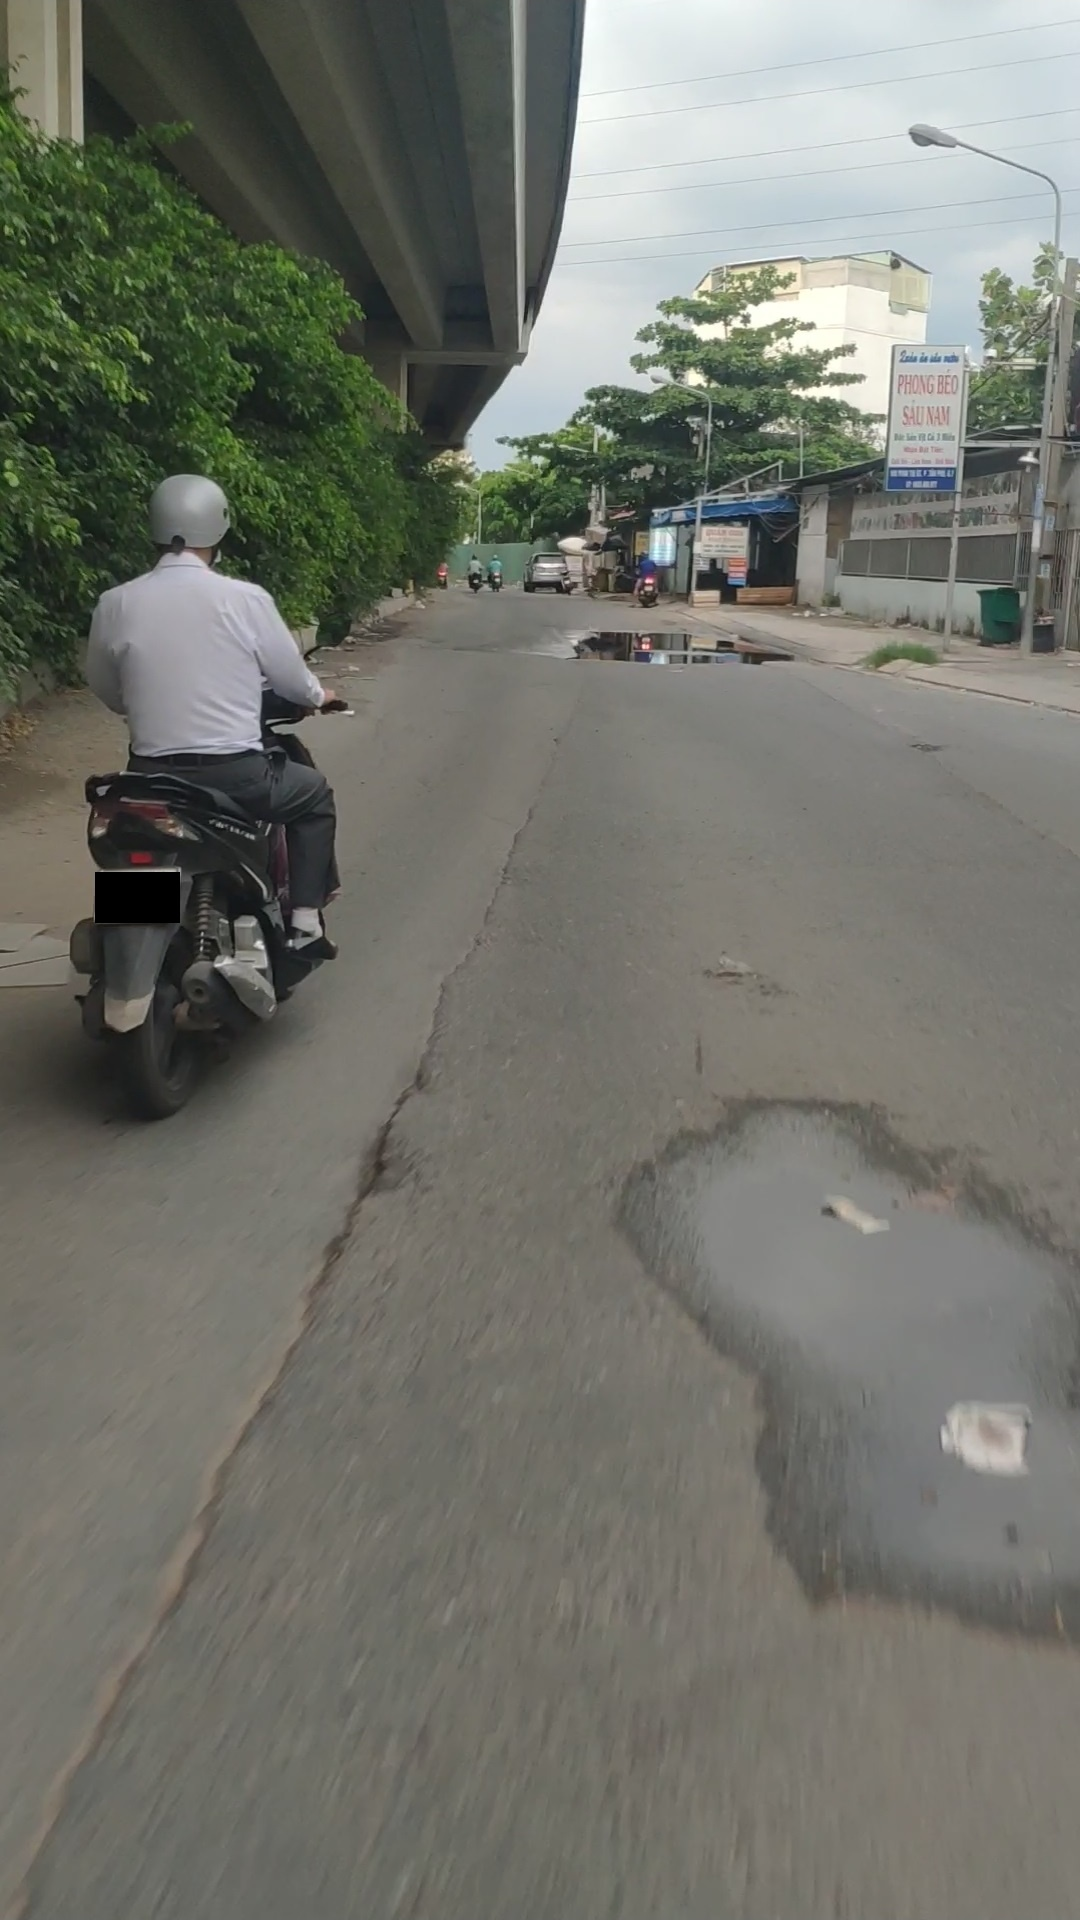hole: (588, 1087, 1080, 1639), (550, 626, 798, 671), (338, 1118, 429, 1201), (913, 735, 945, 758)
